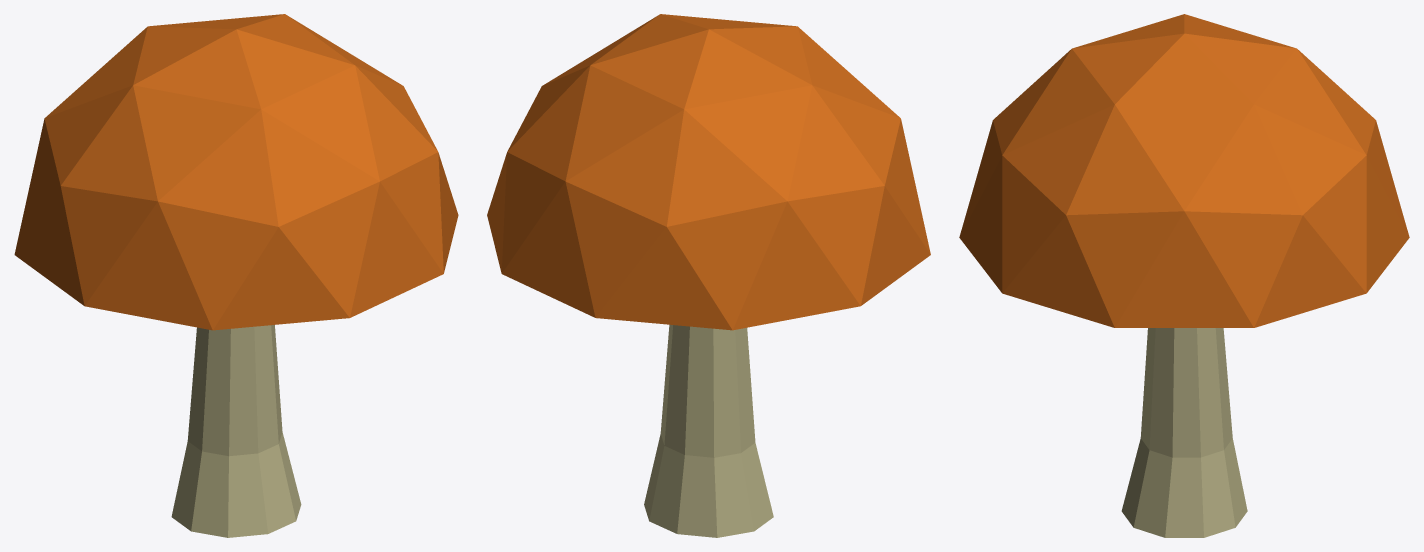
The model's file is mushrooom01_orange.fbx.
3 views of the same model, side by side, from view 1: azimuth 30°, elevation 25°; view 2: azimuth 150°, elevation 25°; view 3: azimuth 270°, elevation 25° (orthographic).
Parts seen in each view (by area): view 1: mushrooom01_orange; view 2: mushrooom01_orange; view 3: mushrooom01_orange.
Part boxes in pixels (x1=…): mushrooom01_orange: x1=14, y1=14, x2=458, y2=537; mushrooom01_orange: x1=487, y1=14, x2=930, y2=537; mushrooom01_orange: x1=959, y1=14, x2=1409, y2=537.
Bounding box in the file's own units: 59.22 × 72.89 × 62.27.
